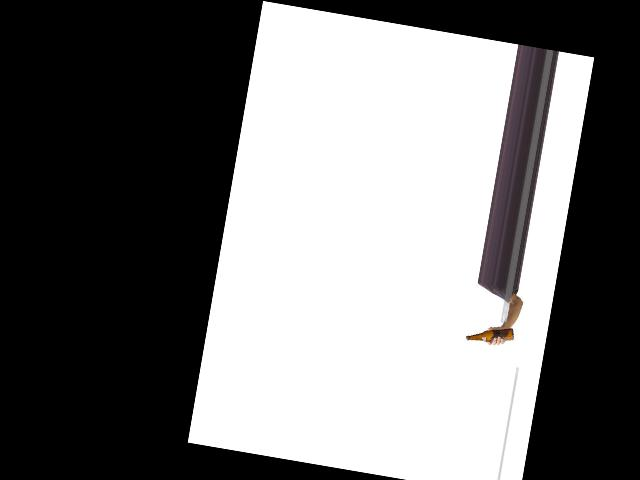beer: (466, 320, 515, 347)
